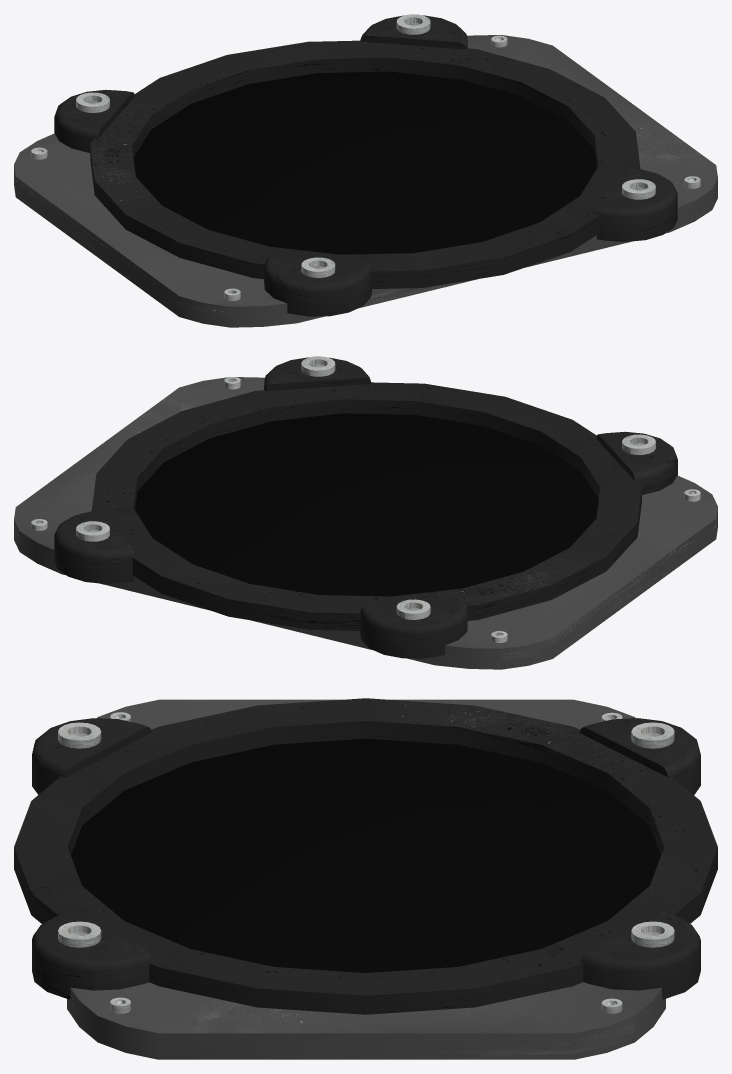
Rendered from F_Console_Radar_02.fbx.
3 views of the same model, one above another, from view 1: azimuth 30°, elevation 25°; view 2: azimuth 150°, elevation 25°; view 3: azimuth 270°, elevation 25° (orthographic). The views are drawn at different scales.
Visible parts, largest first — view 1: F_Console_Radar_02; view 2: F_Console_Radar_02; view 3: F_Console_Radar_02.
Boxes of the visible parts, <box> form: F_Console_Radar_02: <box>14,14,717,327</box>; F_Console_Radar_02: <box>14,356,717,669</box>; F_Console_Radar_02: <box>14,698,717,1059</box>.
Bounding box in the file's own units: 200 × 17.31 × 178.
Materials: 2 (2 with a texture image).
